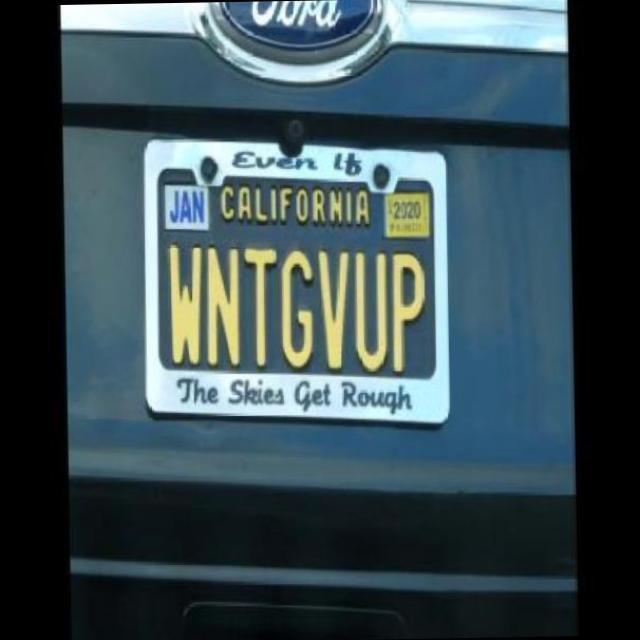License Plate: (140, 126, 452, 434)
